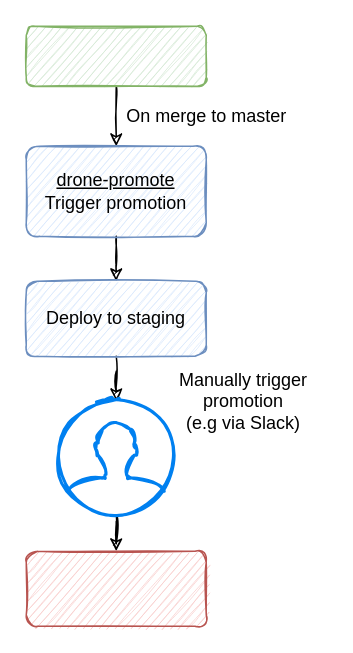
Image size: 353x653. Some labels were removed from this diagram. The centre of each missing label's shape, as x and y in pixels:
"Deploy to production" goes at [115,588].
"Test" goes at [115,55].
